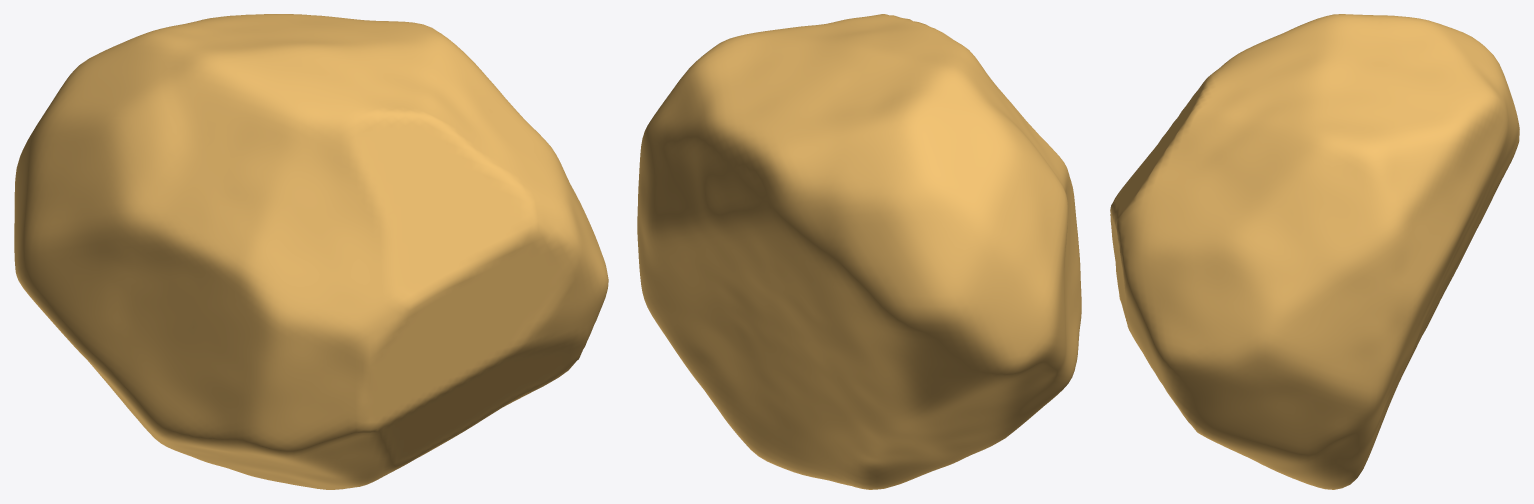
File: nugget-05.glb
3 views of the same model, side by side, from view 1: azimuth 30°, elevation 25°; view 2: azimuth 150°, elevation 25°; view 3: azimuth 270°, elevation 25° (orthographic). The views are drawn at different scales.
Visible parts, largest first — view 1: nugget-05; view 2: nugget-05; view 3: nugget-05.
Part boxes in pixels (x1=…): nugget-05: x1=14, y1=14, x2=608, y2=489; nugget-05: x1=637, y1=14, x2=1081, y2=489; nugget-05: x1=1110, y1=14, x2=1519, y2=489.
Size of the model in its own units: 3.7 by 3.3 by 3.05.
